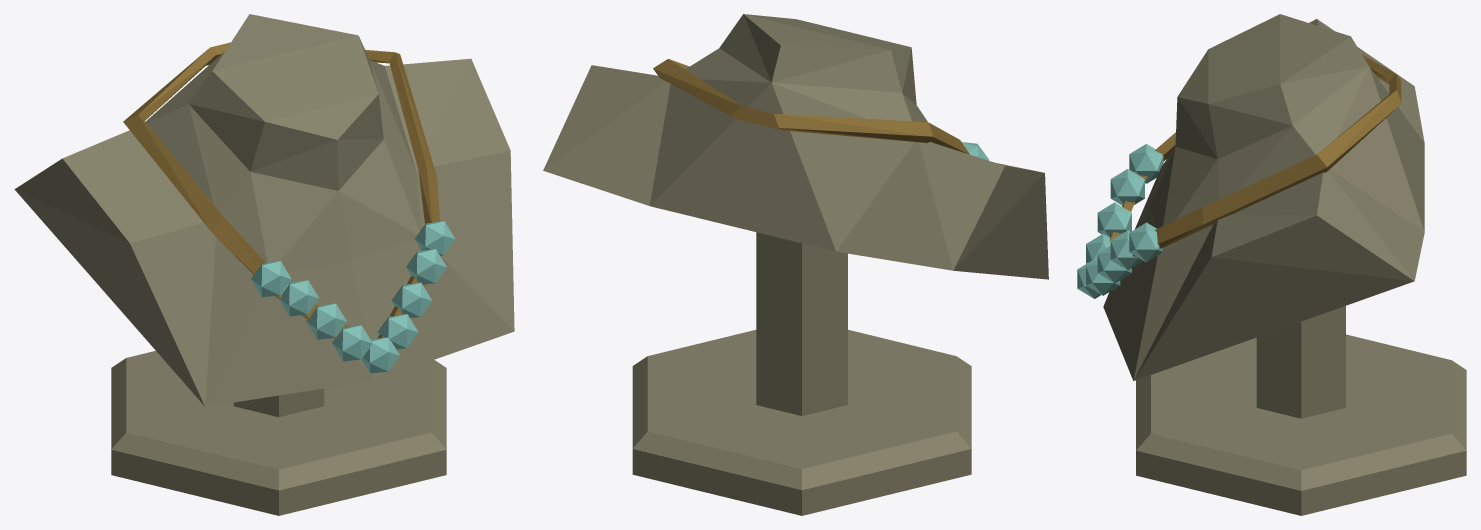
Rendered from WM_BeadedNecklace.fbx.
3 views of the same model, side by side, from view 1: azimuth 30°, elevation 25°; view 2: azimuth 150°, elevation 25°; view 3: azimuth 270°, elevation 25° (orthographic). The views are drawn at different scales.
Parts seen in each view (by area): view 1: Cylinder_27; view 2: Cylinder_27; view 3: Cylinder_27.
Part boxes in pixels (box(x1,y1,x2,y2)): Cylinder_27: box(14, 14, 514, 515); Cylinder_27: box(543, 14, 1048, 515); Cylinder_27: box(1077, 14, 1466, 515).
Size of the model in its own units: 4.06 by 3.82 by 3.39.
